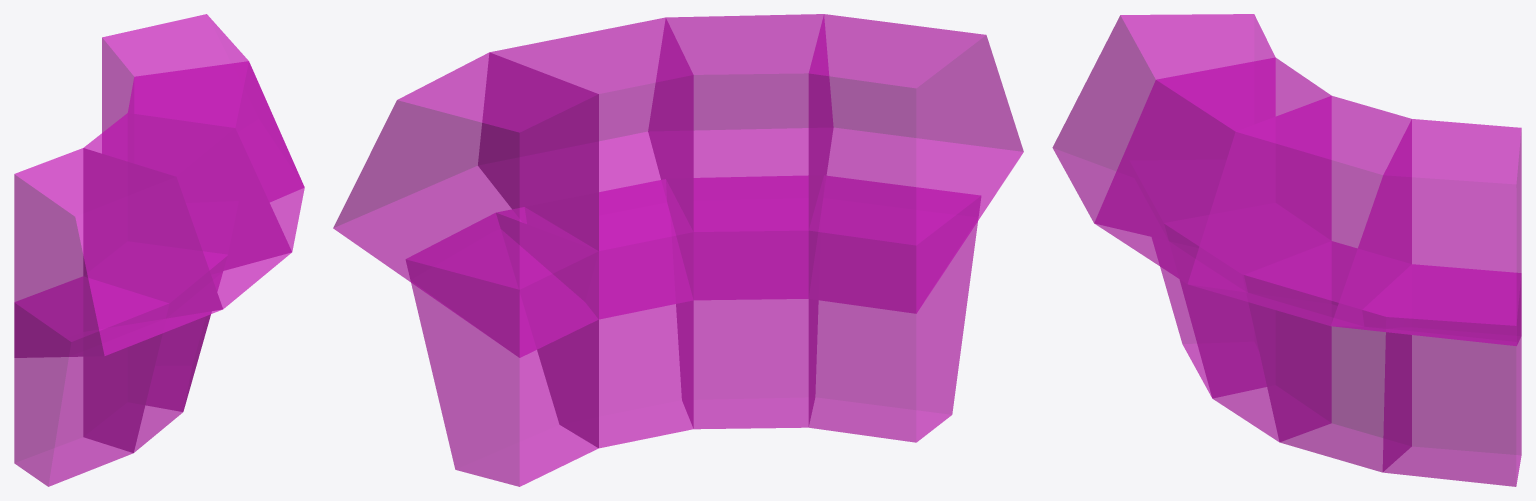
The model's file is SM_Bld_Wall_L_Curve_06_Collision.fbx.
3 renders of one model, left to right at view 1: azimuth 30°, elevation 25°; view 2: azimuth 150°, elevation 25°; view 3: azimuth 270°, elevation 25°, orthographic. The views are drawn at different scales.
Parts seen in each view (by area): view 1: SM_Bld_Wall_L_Curve_06_Collision; view 2: SM_Bld_Wall_L_Curve_06_Collision; view 3: SM_Bld_Wall_L_Curve_06_Collision.
Part boxes in pixels (x1,y1,x2,y2): SM_Bld_Wall_L_Curve_06_Collision: (14,14,304,486); SM_Bld_Wall_L_Curve_06_Collision: (333,14,1023,486); SM_Bld_Wall_L_Curve_06_Collision: (1052,14,1521,486).
Size of the model in its own units: 398 by 306 by 396.
